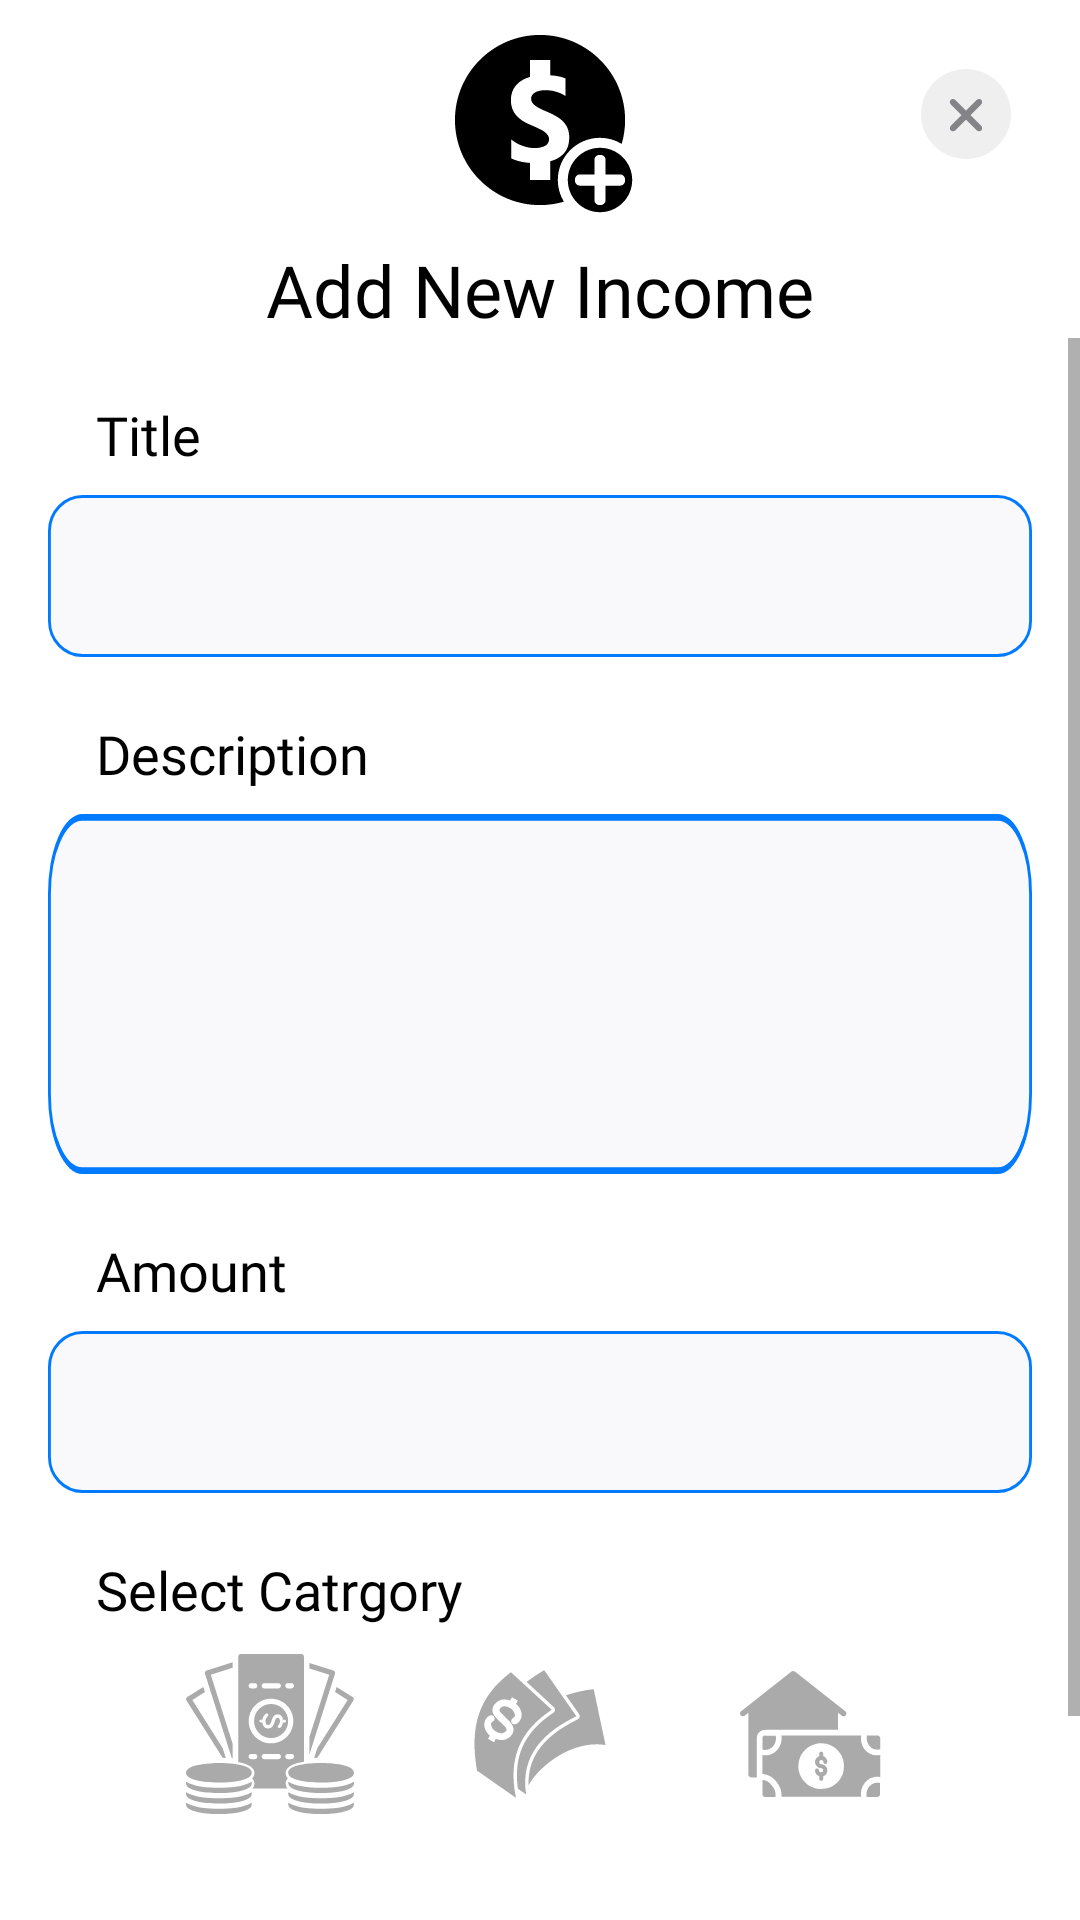

Point at icon controls on the screen. Image size 1080x1920, points as (x=x, y=y).
cash: (x=540, y=1734)
close: (x=966, y=115)
hose rent: (x=810, y=1734)
salary: (x=270, y=1734)
